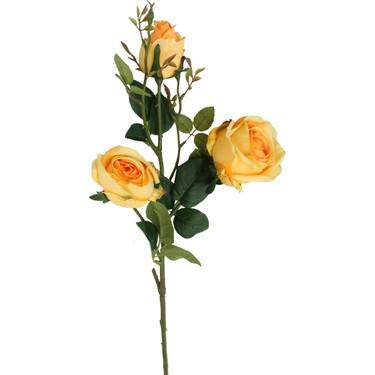Rose: (205, 99, 291, 199), (84, 139, 161, 213), (127, 14, 196, 89)
